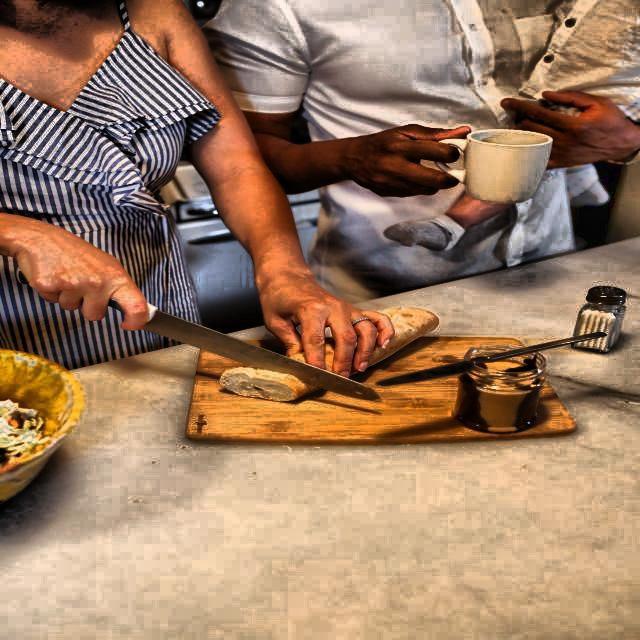knife: (92, 291, 390, 409)
